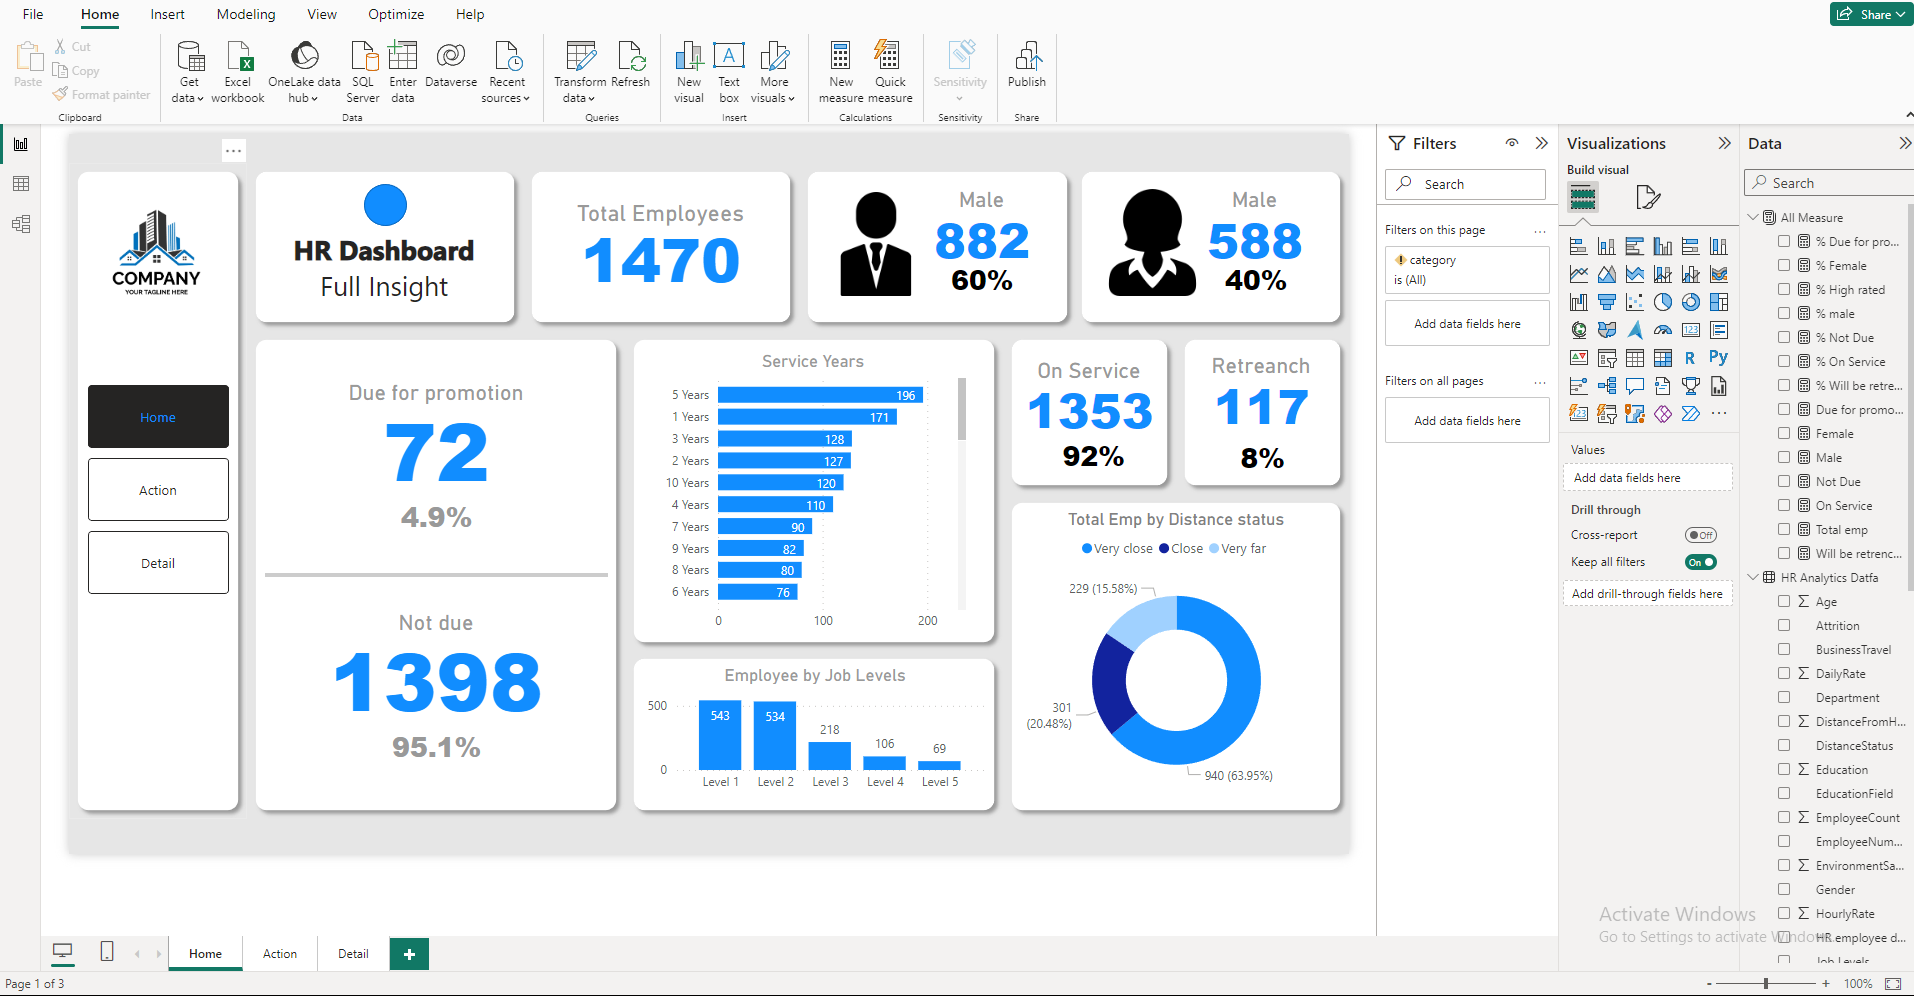

What the dashboard file says about the page in this screenshot:
{"tool":"powerbi","page":{"name":"Home","canvas":[1280,720],"ordinal":0},"visuals":[{"type":"shape","box":[0,29.2,178,655.6],"z":0},{"type":"shape","box":[178,29.2,276.2,168.3],"z":1000},{"type":"shape","box":[454.2,29.2,276.2,168.3],"z":2000},{"type":"shape","box":[178,197.4,378.4,487.3],"z":3000},{"type":"shape","box":[556.4,197.4,377.4,320],"z":4000},{"type":"shape","box":[556.4,516.5,377.4,168.3],"z":5000},{"type":"shape","box":[933.7,359.9,346.3,324.9],"z":6000},{"type":"shape","box":[1106.9,197.4,173.1,162.4],"z":7000},{"type":"shape","box":[730.5,29.2,276.2,168.3],"z":8000},{"type":"shape","box":[933.7,197.4,173.1,162.4],"z":9000},{"type":"textbox","box":[210.1,92.4,211.1,85.6],"z":10000},{"type":"shape","box":[294.7,49.6,42.8,42.8],"z":11000},{"type":"card","title":"Total Employees","fields":{"Values":["All Measure.Total emp"]},"box":[463,66.1,257.8,90.5],"z":12000},{"type":"card","title":"Male","fields":{"Values":["All Measure.Male"]},"box":[852,53.5,121.6,81.7],"z":13000},{"type":"card","fields":{"Values":["All Measure.% male"]},"box":[876.4,126.4,73.9,40.9],"z":14000},{"type":"image","box":[745,53.5,123.5,113.8],"z":15000},{"type":"image","box":[1020.3,54.5,117.7,117.7],"z":16000},{"type":"shape","box":[1003.8,29.2,276.2,168.3],"z":17000},{"type":"card","title":"Male","fields":{"Values":["All Measure.Female"]},"box":[1125.3,53.5,121.6,81.7],"z":18000},{"type":"card","fields":{"Values":["All Measure.% Female"]},"box":[1149.7,126.4,73.9,40.9],"z":19000},{"type":"image","box":[1025.2,49.6,116.7,117.7],"z":20000},{"type":"card","title":"Due for promotion","fields":{"Values":["All Measure.Due for promotion"]},"box":[242.2,246.1,250.9,110.9],"z":21000},{"type":"card","fields":{"Values":["All Measure.% Due for promotion"]},"box":[307.4,357,120.6,54.5],"z":22000},{"type":"card","title":"Not due","fields":{"Values":["All Measure.Not Due"]},"box":[242.2,475.6,250.9,110.9],"z":23000},{"type":"card","fields":{"Values":["All Measure.% Not Due"]},"box":[307.4,586.5,120.6,54.5],"z":24000},{"type":"shape","box":[195.5,423.1,343.3,36],"z":25000},{"type":"clusteredBarChart","title":"Service Years","fields":{"Category":["HR Analytics Data.Service Year"],"Y":["All Measure.Total emp"]},"box":[587.5,216.9,314.2,287.9],"z":26000},{"type":"columnChart","title":"Employee by Job Levels","fields":{"Category":["HR Analytics Data.Job Levels"],"Y":["All Measure.Total emp"]},"box":[572.9,531.1,347.2,135.2],"z":27000},{"type":"card","title":"On Service","fields":{"Values":["All Measure.On Service"]},"box":[948.3,223.7,144.9,81.7],"z":28000},{"type":"card","fields":{"Values":["All Measure.% On Service"]},"box":[976,301.1,96.8,43.1],"z":29000},{"type":"card","title":"Retreanch","fields":{"Values":["All Measure.Will be retrenched"]},"box":[1119.8,219.1,144.9,81.7],"z":30000},{"type":"card","fields":{"Values":["All Measure.% Will be retrenched"]},"box":[1152.5,304.9,82.5,39.3],"z":31000},{"type":"donutChart","title":"Total Emp by Distance status","fields":{"Category":["HR Analytics Data.DistanceStatus"],"Y":["CountNonNull(HR Analytics Data.DistanceStatus)"]},"box":[949.2,374.9,316.4,295.3],"z":32000},{"type":"image","box":[18.2,53.7,141.9,140.9],"z":33000},{"type":"pageNavigator","box":[19.4,250.9,140.1,211.1],"z":34000}]}

Visuals, with their boxes on the page's 1280x720 design canvas (x1, y1, x2, y2). These are canvas units, not pixel positions in the 1914x996 screenshot, which may show the page scaled, cropped or inside an application window:
shape: [left=0, top=29, right=178, bottom=685]
shape: [left=178, top=29, right=454, bottom=198]
shape: [left=454, top=29, right=730, bottom=198]
shape: [left=178, top=197, right=556, bottom=685]
shape: [left=556, top=197, right=934, bottom=517]
shape: [left=556, top=516, right=934, bottom=685]
shape: [left=934, top=360, right=1280, bottom=685]
shape: [left=1107, top=197, right=1280, bottom=360]
shape: [left=730, top=29, right=1007, bottom=198]
shape: [left=934, top=197, right=1107, bottom=360]
textbox: [left=210, top=92, right=421, bottom=178]
shape: [left=295, top=50, right=338, bottom=92]
"Total Employees" card: [left=463, top=66, right=721, bottom=157]
"Male" card: [left=852, top=54, right=974, bottom=135]
card - All Measure.% male: [left=876, top=126, right=950, bottom=167]
image: [left=745, top=54, right=868, bottom=167]
image: [left=1020, top=54, right=1138, bottom=172]
shape: [left=1004, top=29, right=1280, bottom=198]
"Male" card: [left=1125, top=54, right=1247, bottom=135]
card - All Measure.% Female: [left=1150, top=126, right=1224, bottom=167]
image: [left=1025, top=50, right=1142, bottom=167]
"Due for promotion" card: [left=242, top=246, right=493, bottom=357]
card - All Measure.% Due for promotion: [left=307, top=357, right=428, bottom=412]
"Not due" card: [left=242, top=476, right=493, bottom=586]
card - All Measure.% Not Due: [left=307, top=586, right=428, bottom=641]
shape: [left=196, top=423, right=539, bottom=459]
"Service Years" clusteredBarChart: [left=588, top=217, right=902, bottom=505]
"Employee by Job Levels" columnChart: [left=573, top=531, right=920, bottom=666]
"On Service" card: [left=948, top=224, right=1093, bottom=305]
card - All Measure.% On Service: [left=976, top=301, right=1073, bottom=344]
"Retreanch" card: [left=1120, top=219, right=1265, bottom=301]
card - All Measure.% Will be retrenched: [left=1152, top=305, right=1235, bottom=344]
"Total Emp by Distance status" donutChart: [left=949, top=375, right=1266, bottom=670]
image: [left=18, top=54, right=160, bottom=195]
pageNavigator: [left=19, top=251, right=160, bottom=462]
